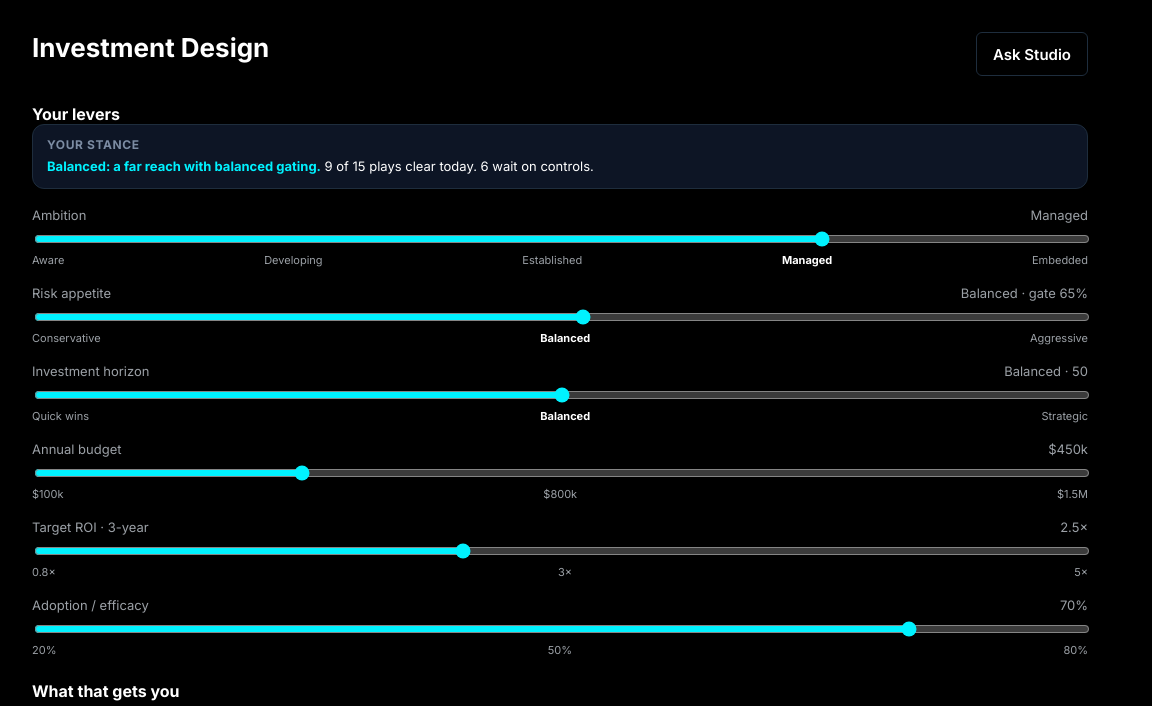
Scenario: lever changes recompute the stance banner live (recompute base 1256-1301; readLevers 1229-1233) › moving Ambition 3 → 1 changes the plays-clear count (allowRisk 3 → 1, base 1232; low-risk pool only)
This screenshot has width=1152, height=706.
Expected: the text "9 of 15 plays clear today. 6 wait on controls." is shown, [325, 158, 594, 174]
Set the slider labelled "Ambition" to "1": coordinates (302, 239) [34, 231, 1090, 247]
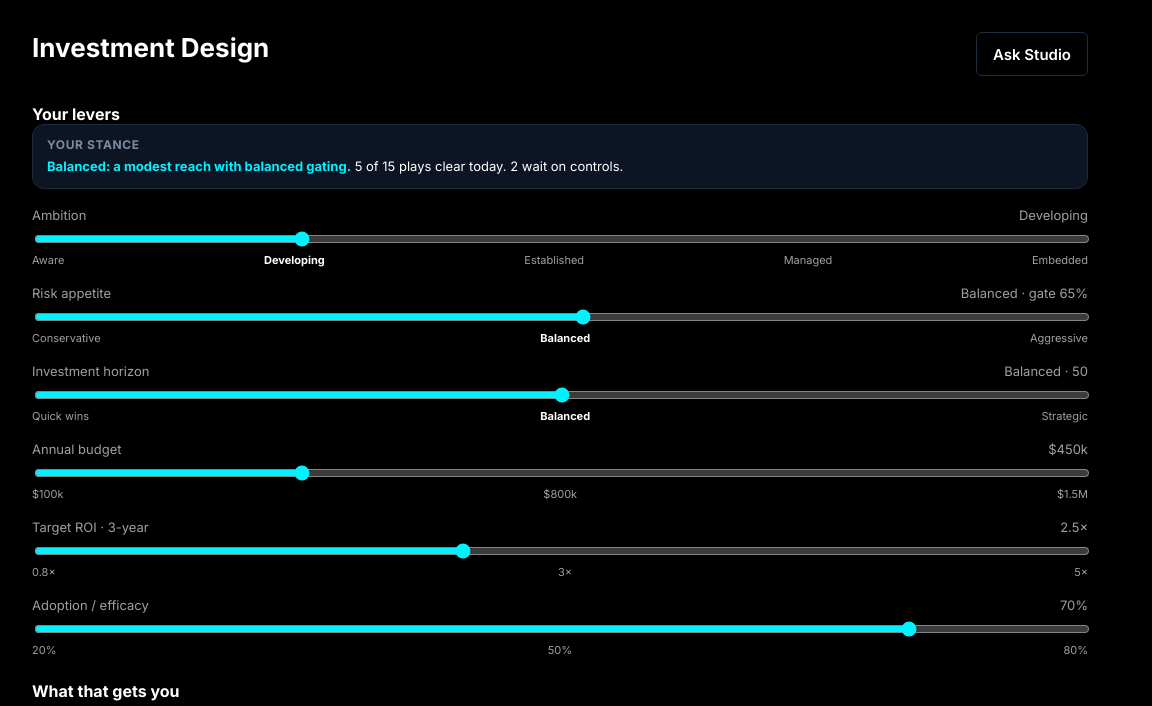
Expected: the text "Balanced: a modest reach with balanced gating." is shown, [47, 158, 351, 174]
Expected: the text "5 of 15 plays clear today. 2 wait on controls." is shown, [355, 158, 623, 174]
Expected: the text "9 of 15 plays clear today. 6 wait on controls." is gone
